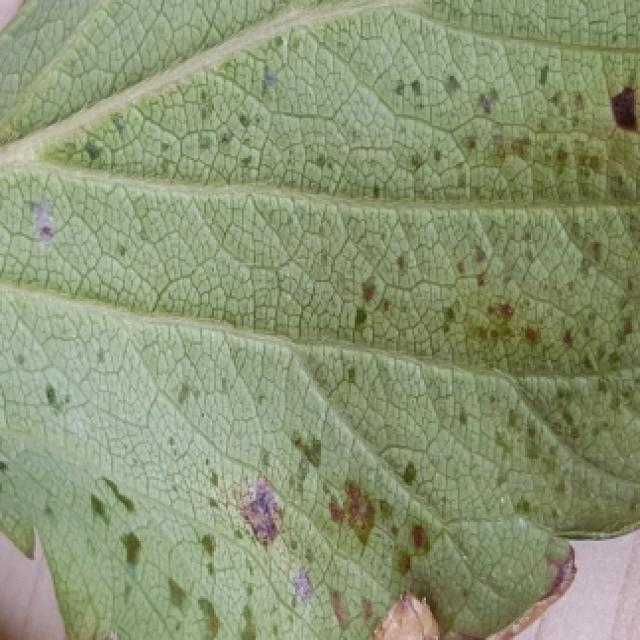Angular Leafspot: (0, 0, 640, 640)
